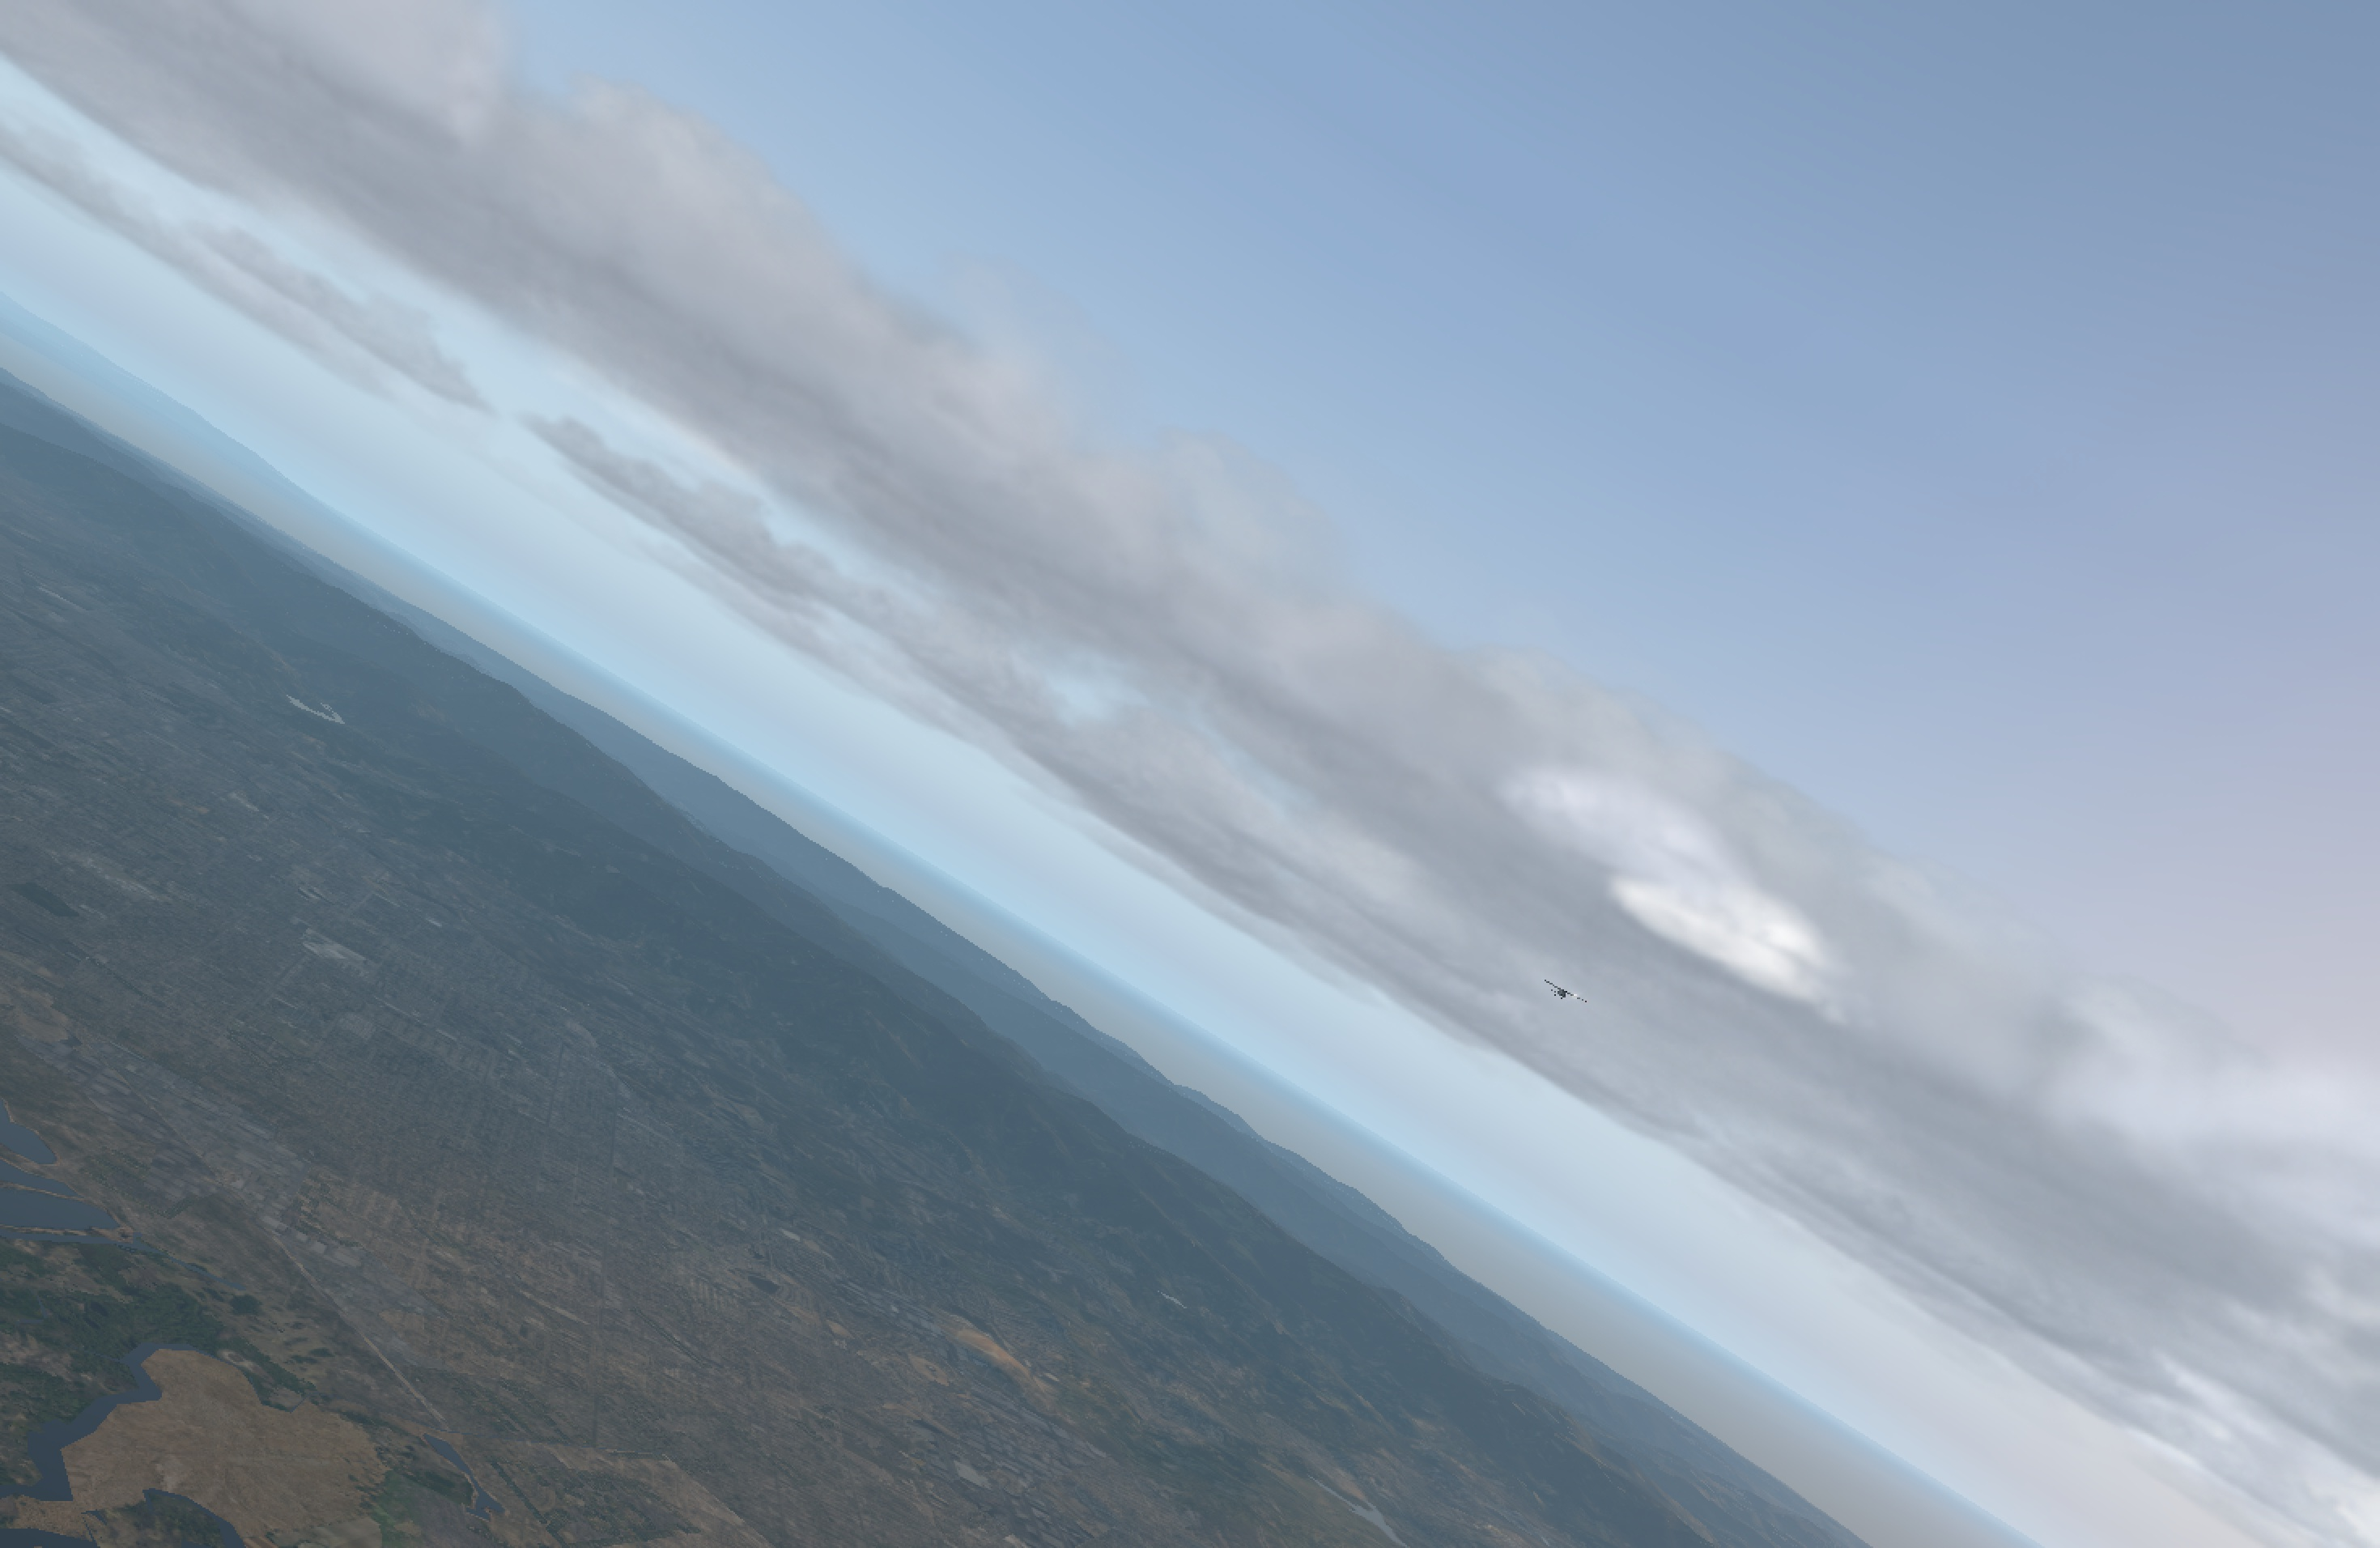aircraft: (1546, 986, 1580, 1000)
